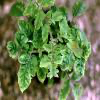Tomato leaf yellow virus: (17, 53, 36, 95), (60, 48, 78, 74), (17, 19, 33, 43), (73, 55, 89, 79), (34, 10, 46, 32), (39, 55, 52, 71), (59, 17, 70, 35), (50, 10, 63, 25), (52, 53, 64, 67)
